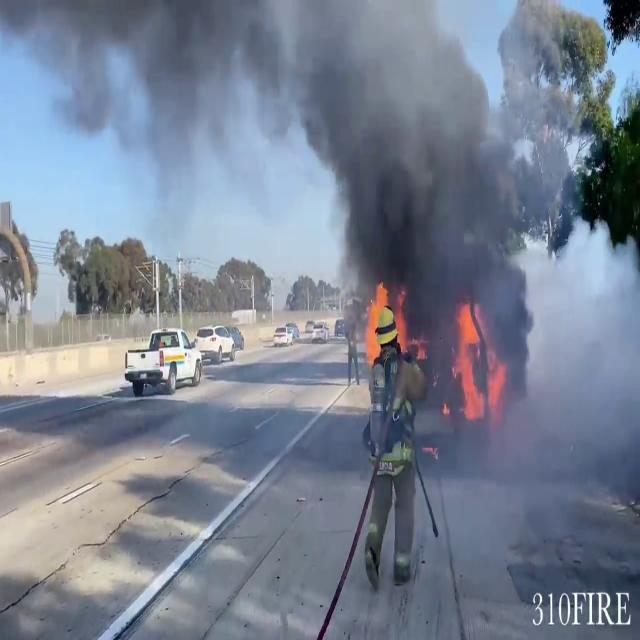Fire: (450, 296, 493, 420), (364, 278, 398, 366)
Smoke: (202, 1, 547, 311), (522, 200, 640, 540)
